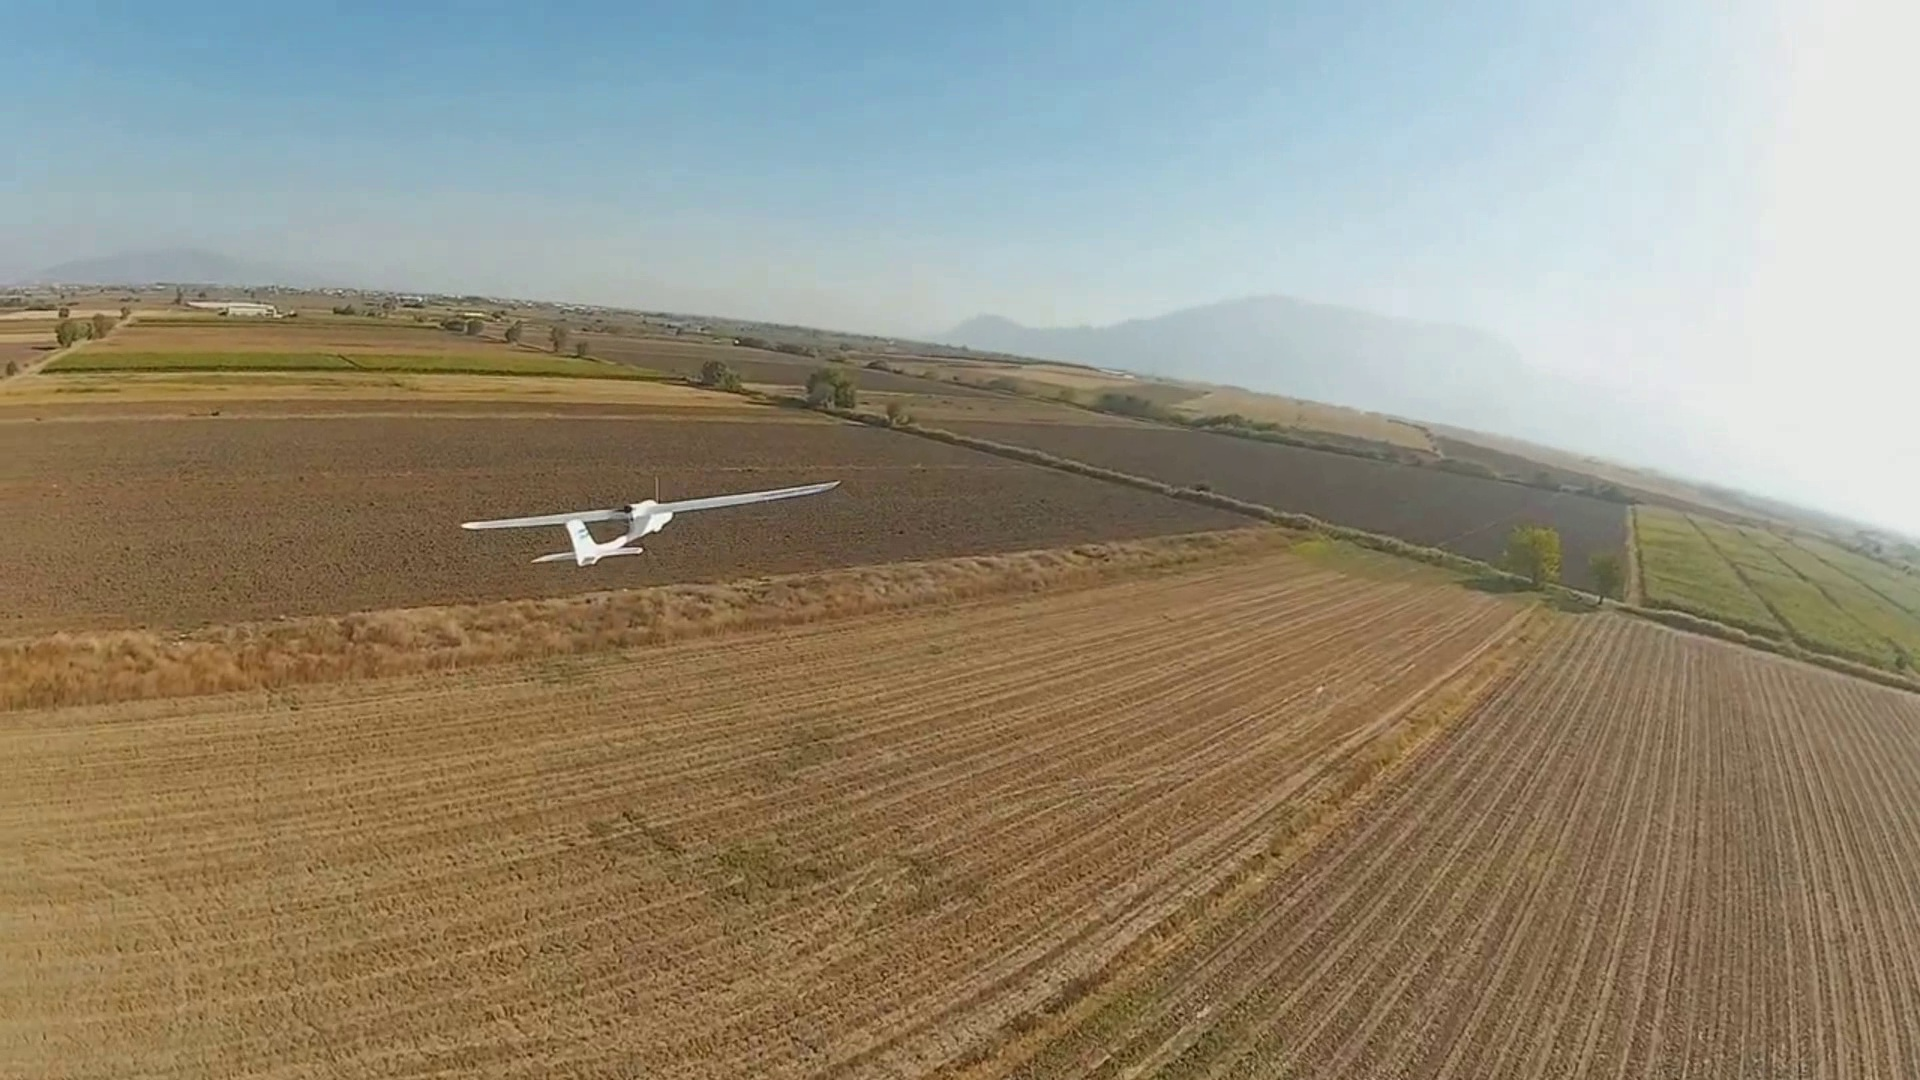airplane: (460, 479, 844, 569)
